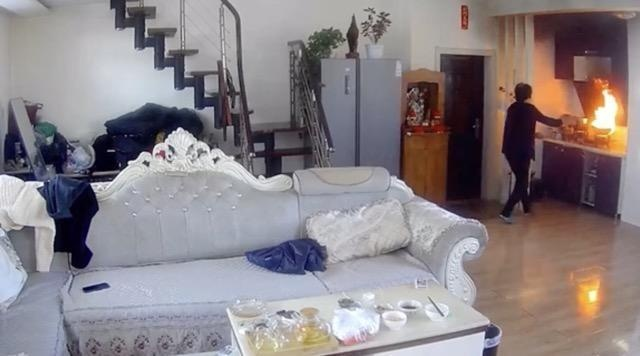fire: (582, 74, 626, 142)
